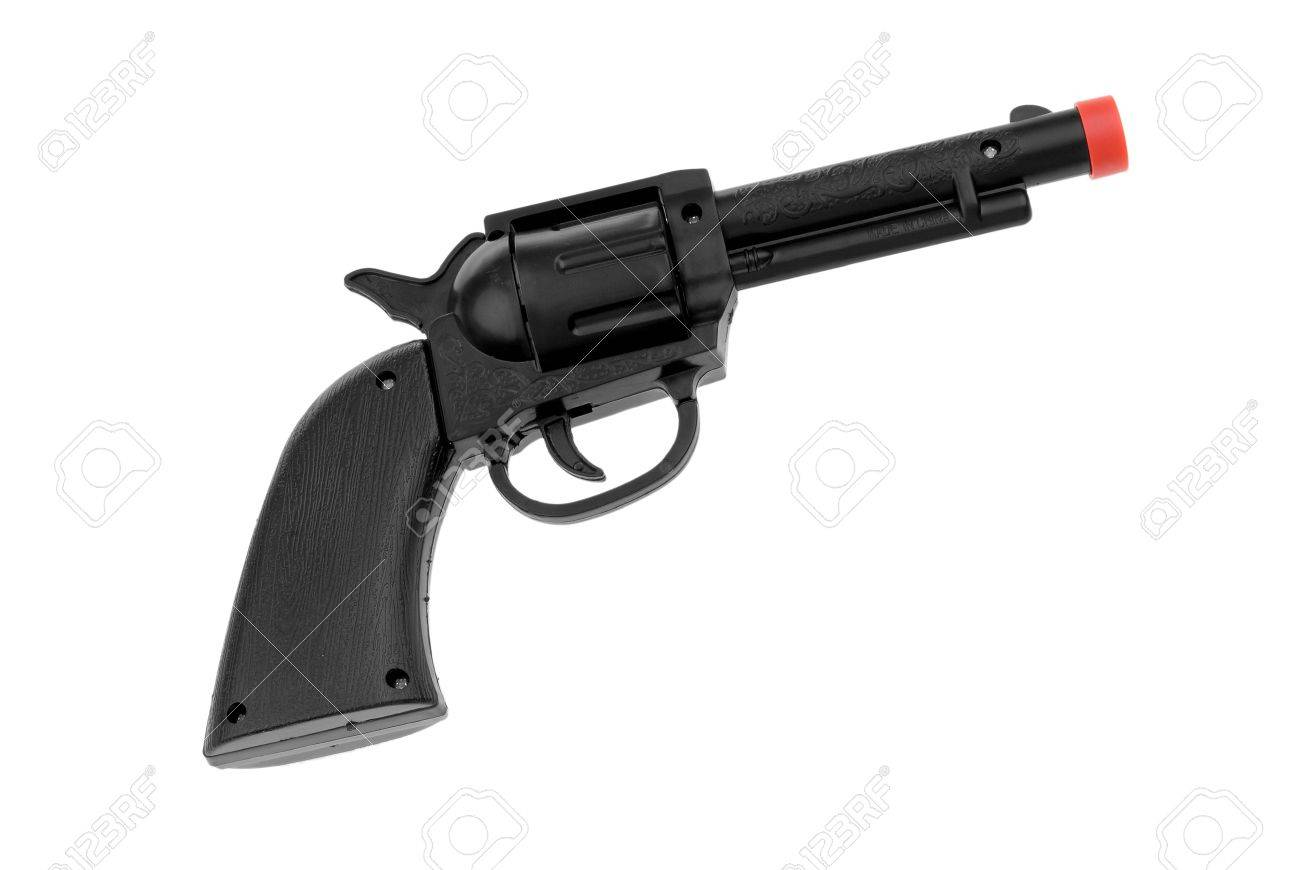Arma Falsa: (201, 96, 1149, 752)
